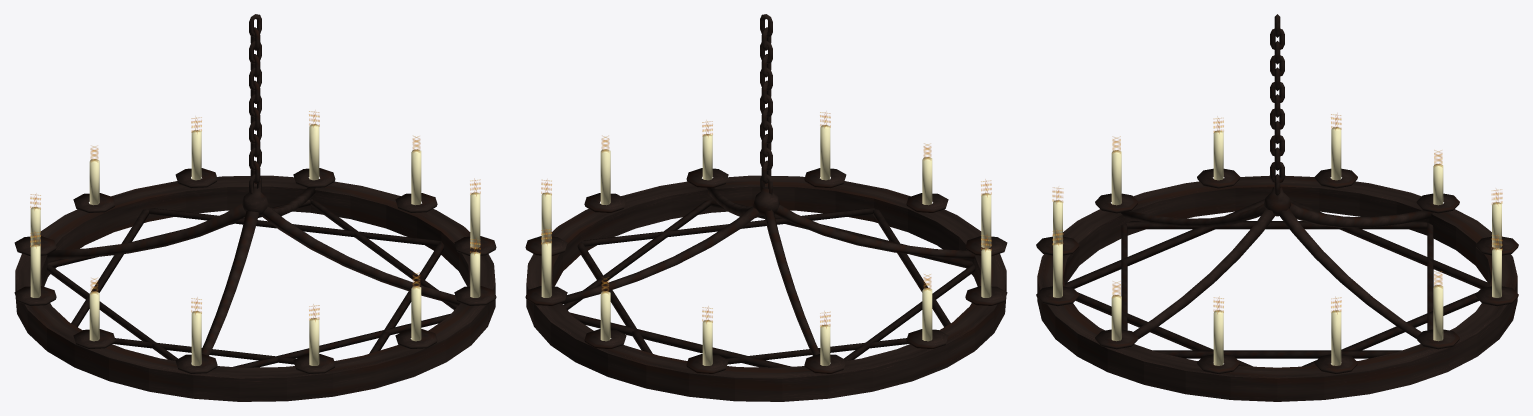
File: mm6_deco_chndlir0.glb
The picture shows the model from 3 angles, left to right: view 1: azimuth 30°, elevation 25°; view 2: azimuth 150°, elevation 25°; view 3: azimuth 270°, elevation 25°; orthographic projection.
Visible parts, largest first — view 1: Chndlir0; view 2: Chndlir0; view 3: Chndlir0.
Boxes of the visible parts, left/top/right/bottom form: Chndlir0: left=14, top=14, right=496, bottom=401; Chndlir0: left=525, top=14, right=1007, bottom=401; Chndlir0: left=1036, top=14, right=1518, bottom=401.
Size of the model in its own units: 2.98 by 1.95 by 2.98.
3 materials, 3 textured.
